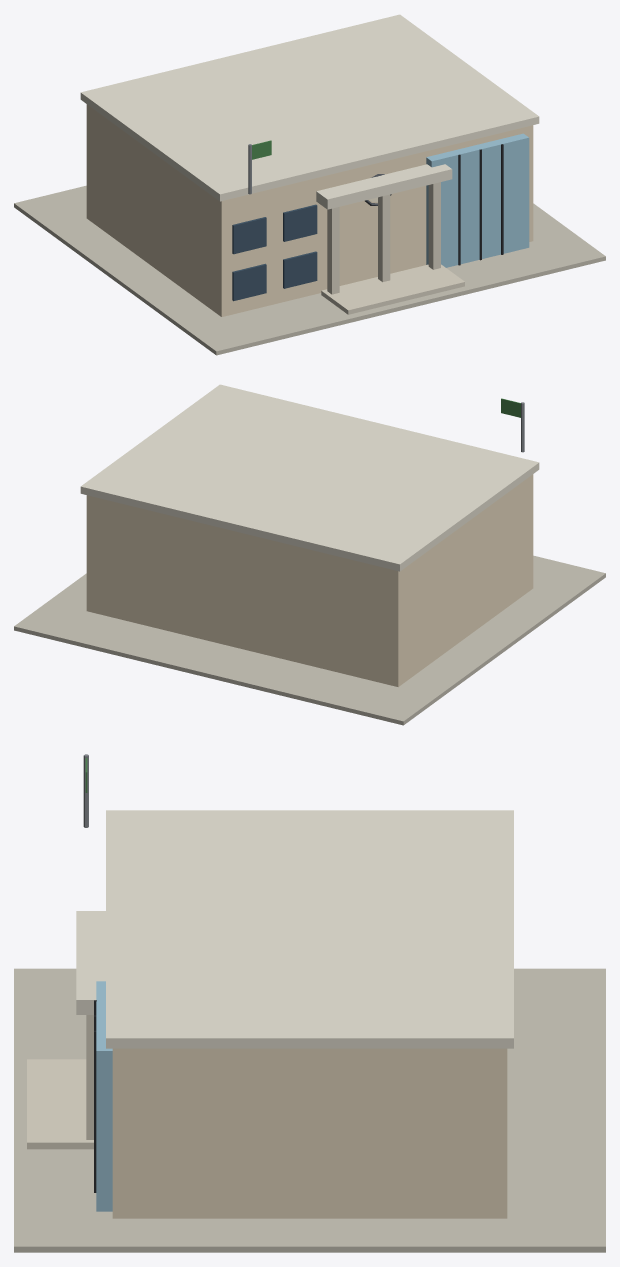
Rendered from building.library.glb.
The picture shows the model from 3 angles, top to bottom: view 1: azimuth 30°, elevation 25°; view 2: azimuth 150°, elevation 25°; view 3: azimuth 270°, elevation 25°; orthographic projection. The views are drawn at different scales.
Parts seen in each view (by area): view 1: building.library; view 2: building.library; view 3: building.library.
Part boxes in pixels (box(x1,y1,x2,y2)): building.library: box(14, 14, 605, 355); building.library: box(14, 384, 605, 725); building.library: box(14, 754, 605, 1252).
Size of the model in its own units: 20 by 8.75 by 18.
